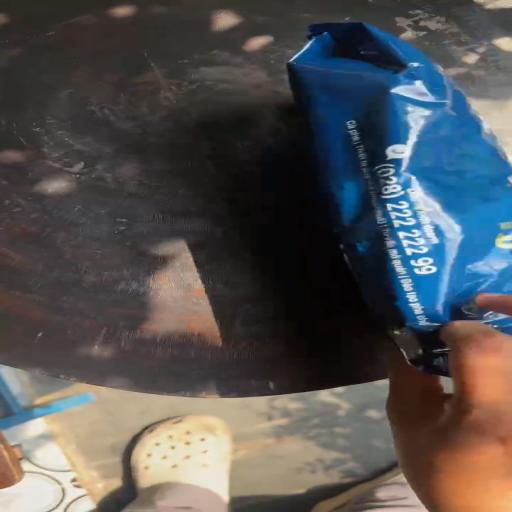cafe_hat: (288, 22, 511, 376)
